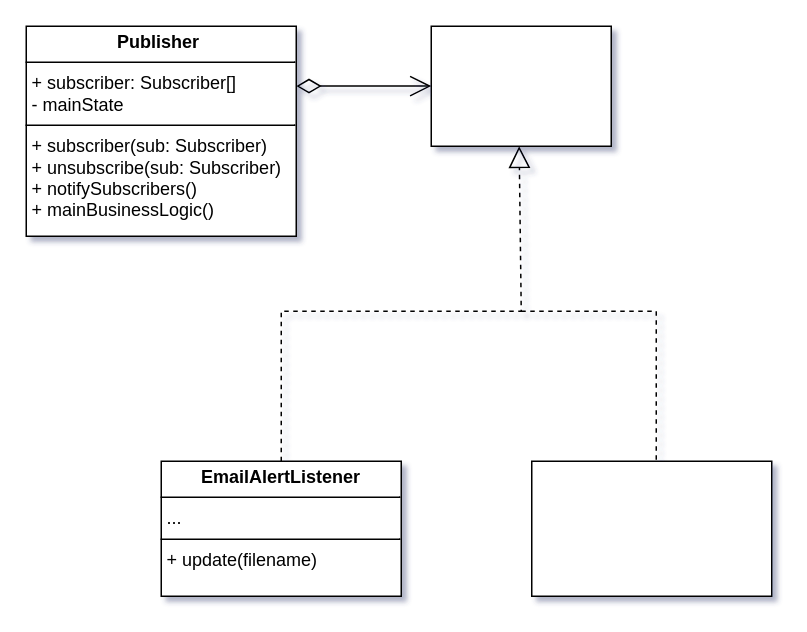
The diagram is 807 pixels wide and 632 high, and some of its shapes have lost their labels. The shapes that lost their labels are listed below. From the top down, each one's centre as x and y in pixels, then its label:
At [520,85]: "<<Interface>> Subscriber + update(context)".
At [651,528]: "LoggingListener ... + update(filename)".
